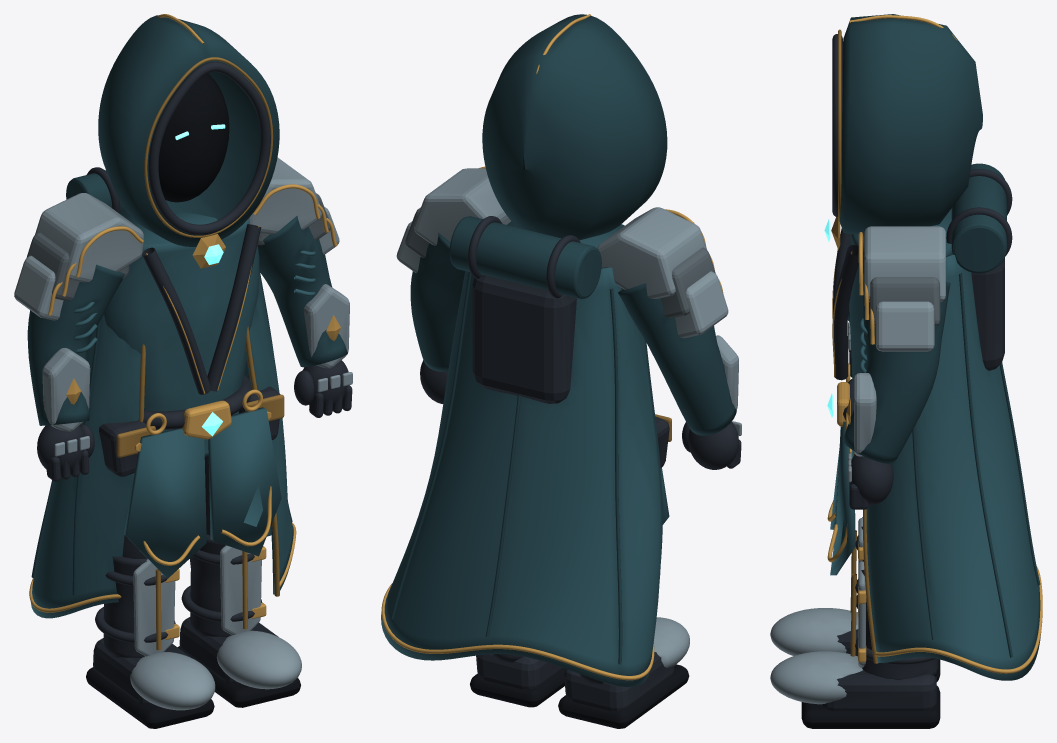
3 views of the same model, side by side, from view 1: azimuth 30°, elevation 25°; view 2: azimuth 150°, elevation 25°; view 3: azimuth 270°, elevation 25° (orthographic). The views are drawn at different scales.
Visible parts, largest first — view 1: Tecido azul-petróleo · roupa, Tecido azul-petróleo · roupa__dobras, Aço das proteções · pele, Couro e sombras · detalhes, Couro e sombras · detalhes__sombra, Metais e bordados · acessorios__patina, Metais e bordados · acessorios, Metais e bordados · acessorios__bordado, Aço das proteções · pele__rebaixos, Pedras e olhos · rosto; view 2: Tecido azul-petróleo · roupa, Tecido azul-petróleo · roupa__dobras, Couro e sombras · detalhes, Aço das proteções · pele, Couro e sombras · detalhes__sombra, Aço das proteções · pele__rebaixos, Metais e bordados · acessorios__bordado; view 3: Tecido azul-petróleo · roupa, Tecido azul-petróleo · roupa__dobras, Aço das proteções · pele, Couro e sombras · detalhes, Couro e sombras · detalhes__sombra, Metais e bordados · acessorios__bordado, Metais e bordados · acessorios__patina, Aço das proteções · pele__rebaixos, Metais e bordados · acessorios.
Part boxes in pixels (x1=…): Tecido azul-petróleo · roupa: x1=31, y1=210, x2=315, y2=618; Tecido azul-petróleo · roupa__dobras: x1=27, y1=15, x2=347, y2=595; Aço das proteções · pele: x1=14, y1=157, x2=352, y2=710; Couro e sombras · detalhes: x1=37, y1=61, x2=352, y2=704; Couro e sombras · detalhes__sombra: x1=86, y1=73, x2=300, y2=728; Metais e bordados · acessorios__patina: x1=116, y1=57, x2=284, y2=650; Metais e bordados · acessorios: x1=48, y1=184, x2=340, y2=639; Metais e bordados · acessorios__bordado: x1=29, y1=14, x2=296, y2=612; Aço das proteções · pele__rebaixos: x1=26, y1=193, x2=330, y2=300; Pedras e olhos · rosto: x1=175, y1=124, x2=225, y2=436; Tecido azul-petróleo · roupa: x1=381, y1=221, x2=669, y2=687; Tecido azul-petróleo · roupa__dobras: x1=390, y1=14, x2=736, y2=664; Couro e sombras · detalhes: x1=420, y1=216, x2=741, y2=710; Aço das proteções · pele: x1=396, y1=168, x2=741, y2=667; Couro e sombras · detalhes__sombra: x1=470, y1=157, x2=689, y2=728; Aço das proteções · pele__rebaixos: x1=405, y1=207, x2=715, y2=318; Metais e bordados · acessorios__bordado: x1=381, y1=14, x2=654, y2=680; Tecido azul-petróleo · roupa: x1=830, y1=209, x2=1041, y2=680; Tecido azul-petróleo · roupa__dobras: x1=839, y1=14, x2=1040, y2=657; Aço das proteções · pele: x1=770, y1=226, x2=945, y2=704; Couro e sombras · detalhes: x1=821, y1=34, x2=1012, y2=710; Couro e sombras · detalhes__sombra: x1=801, y1=659, x2=940, y2=728; Metais e bordados · acessorios__bordado: x1=827, y1=15, x2=1042, y2=673; Metais e bordados · acessorios__patina: x1=838, y1=29, x2=878, y2=663; Aço das proteções · pele__rebaixos: x1=870, y1=277, x2=940, y2=326; Metais e bordados · acessorios: x1=831, y1=217, x2=874, y2=662.
Size of the model in its own units: 1.92 by 3.94 by 1.43.
